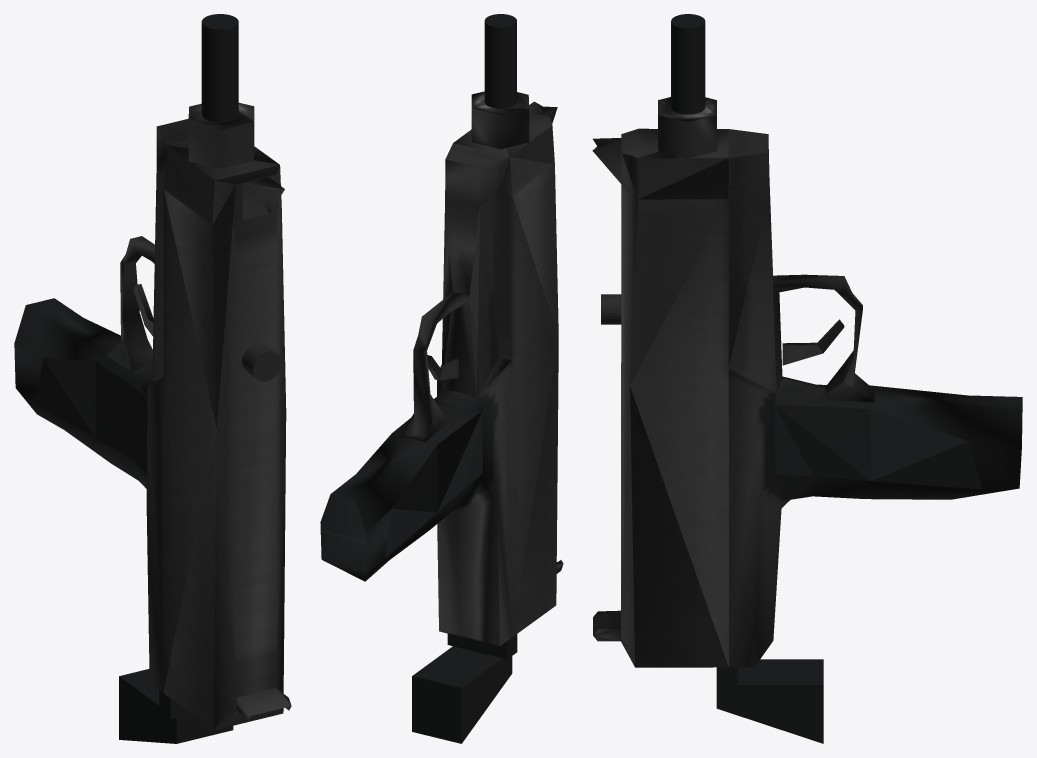
The model's file is MAC10_NoMagazine.fbx.
The picture shows the model from 3 angles, left to right: view 1: azimuth 30°, elevation 25°; view 2: azimuth 150°, elevation 25°; view 3: azimuth 270°, elevation 25°; orthographic projection. The views are drawn at different scales.
Visible parts, largest first — view 1: node_7eb8945f_c9b5_4b90_a62e_b771b0daf3d9_mesh0; view 2: node_7eb8945f_c9b5_4b90_a62e_b771b0daf3d9_mesh0; view 3: node_7eb8945f_c9b5_4b90_a62e_b771b0daf3d9_mesh0.
Boxes of the visible parts, <box> form: node_7eb8945f_c9b5_4b90_a62e_b771b0daf3d9_mesh0: <box>14,14,291,743</box>; node_7eb8945f_c9b5_4b90_a62e_b771b0daf3d9_mesh0: <box>320,14,563,743</box>; node_7eb8945f_c9b5_4b90_a62e_b771b0daf3d9_mesh0: <box>592,14,1022,743</box>.
Size of the model in its own units: 0.0199 by 0.2089 by 0.1147.
